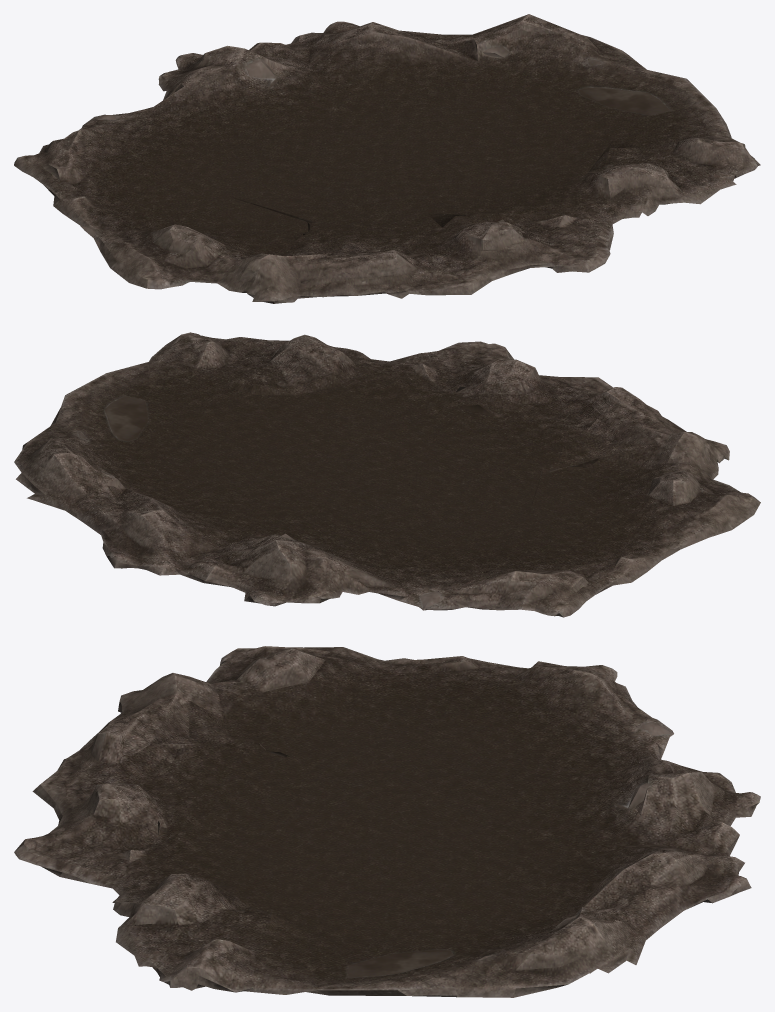
The picture shows the model from 3 angles, top to bottom: view 1: azimuth 30°, elevation 25°; view 2: azimuth 150°, elevation 25°; view 3: azimuth 270°, elevation 25°; orthographic projection. The views are drawn at different scales.
Size of the model in its own units: 1.83 by 0.098 by 1.65.
1 material, 1 textured.
